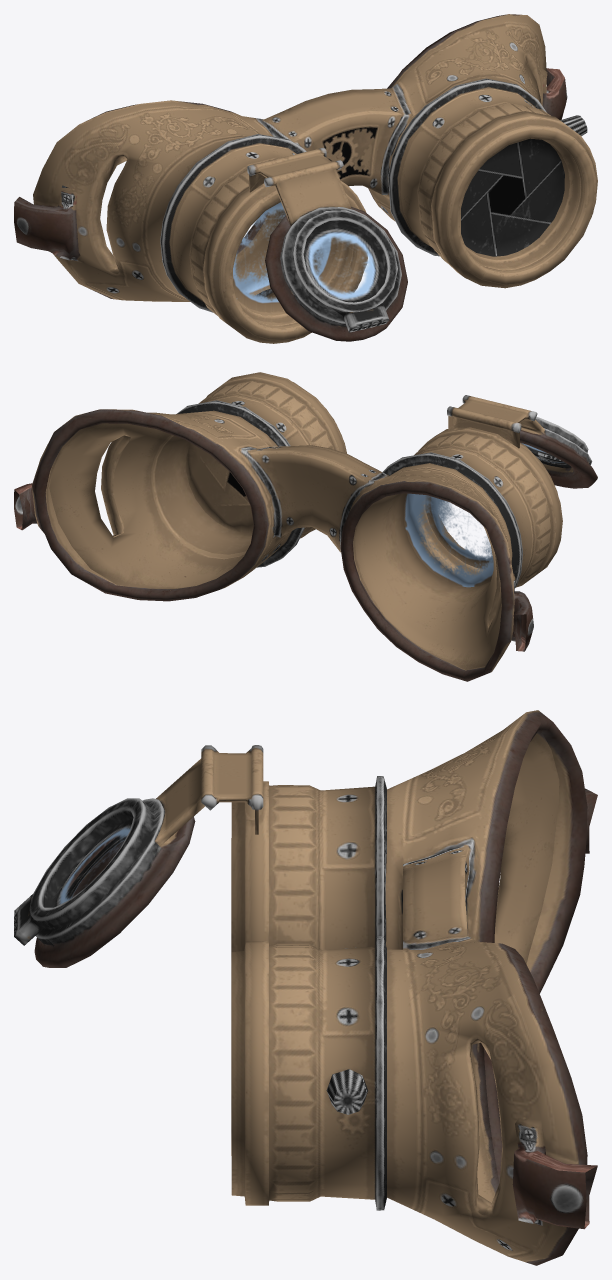
File: steampunk_glasses_front.glb
3 views of the same model, one above another, from view 1: azimuth 30°, elevation 25°; view 2: azimuth 150°, elevation 25°; view 3: azimuth 270°, elevation 25° (orthographic). The views are drawn at different scales.
Visible parts, largest first — view 1: Googles_front, Goggles_lenses; view 2: Googles_front, Goggles_lenses; view 3: Googles_front.
Boxes of the visible parts, <box> form: Googles_front: <box>14,14,597,343</box>; Goggles_lenses: <box>233,202,375,311</box>; Googles_front: <box>14,372,597,681</box>; Goggles_lenses: <box>404,443,559,587</box>; Googles_front: <box>14,710,597,1265</box>.
Bounding box in the file's own units: 1.38 × 0.4783 × 0.8852.
2 materials, 2 textured.
